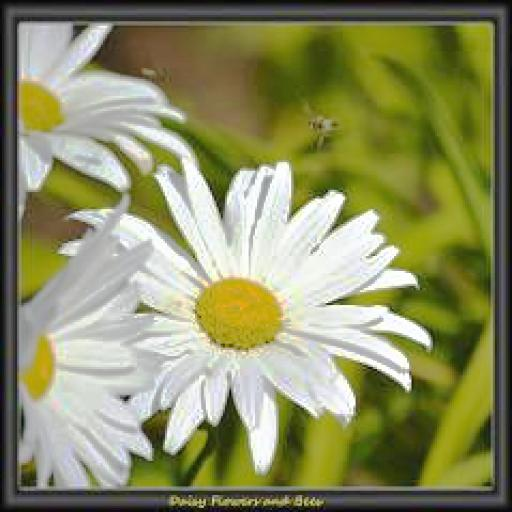daisy: (120, 156, 411, 435), (22, 222, 182, 488), (19, 24, 180, 228)
